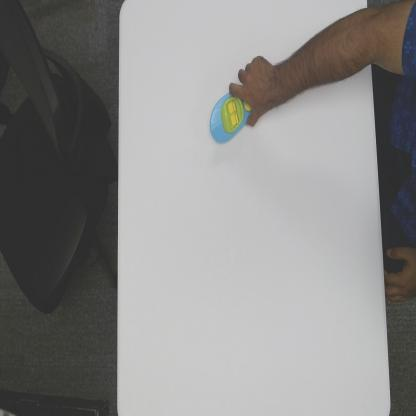Arm: (276, 9, 372, 103)
Boat: (208, 88, 254, 145)
Hand: (229, 53, 277, 130)
